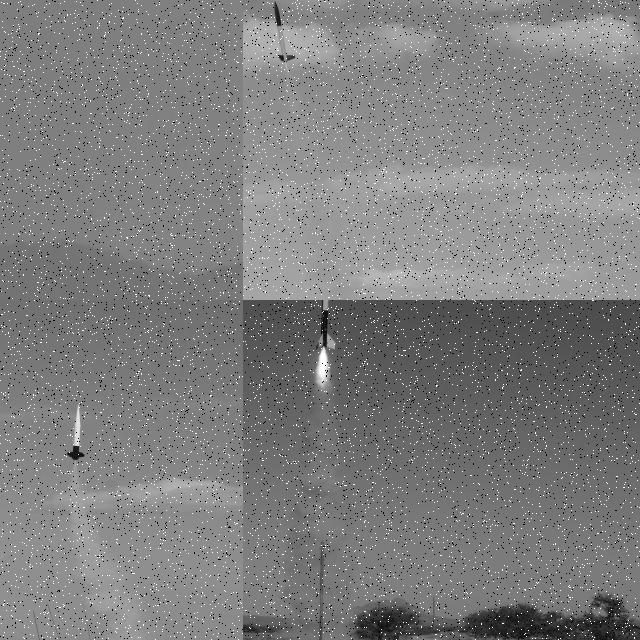Rocket: (311, 300, 340, 350), (274, 0, 296, 62), (67, 404, 85, 462)
